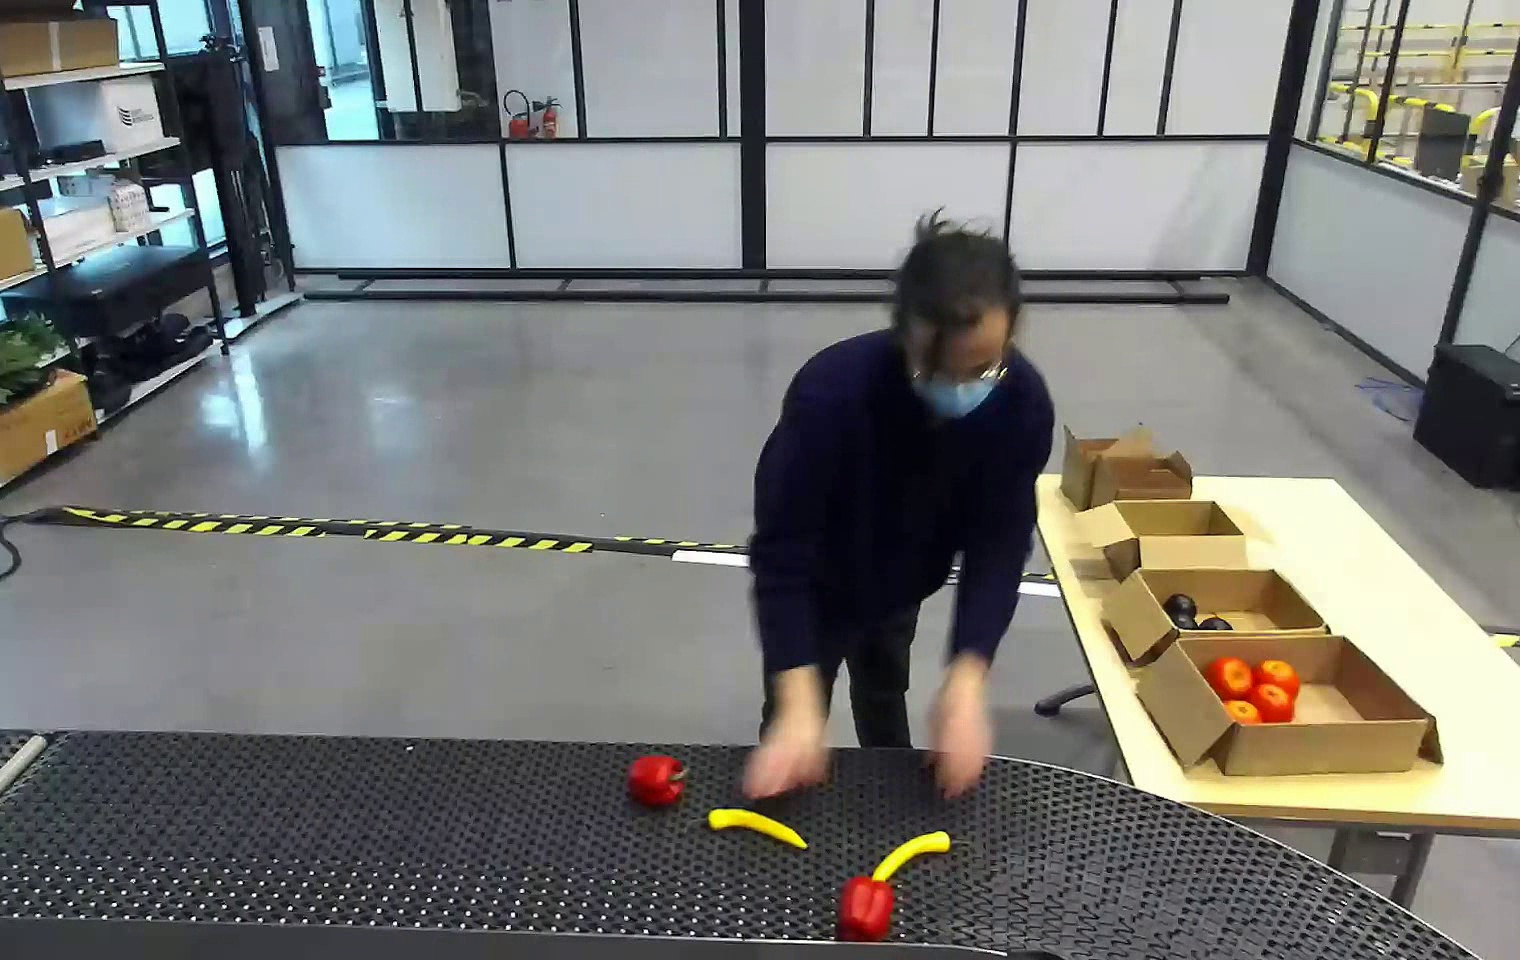Main droite: (1097, 394, 1134, 432)
